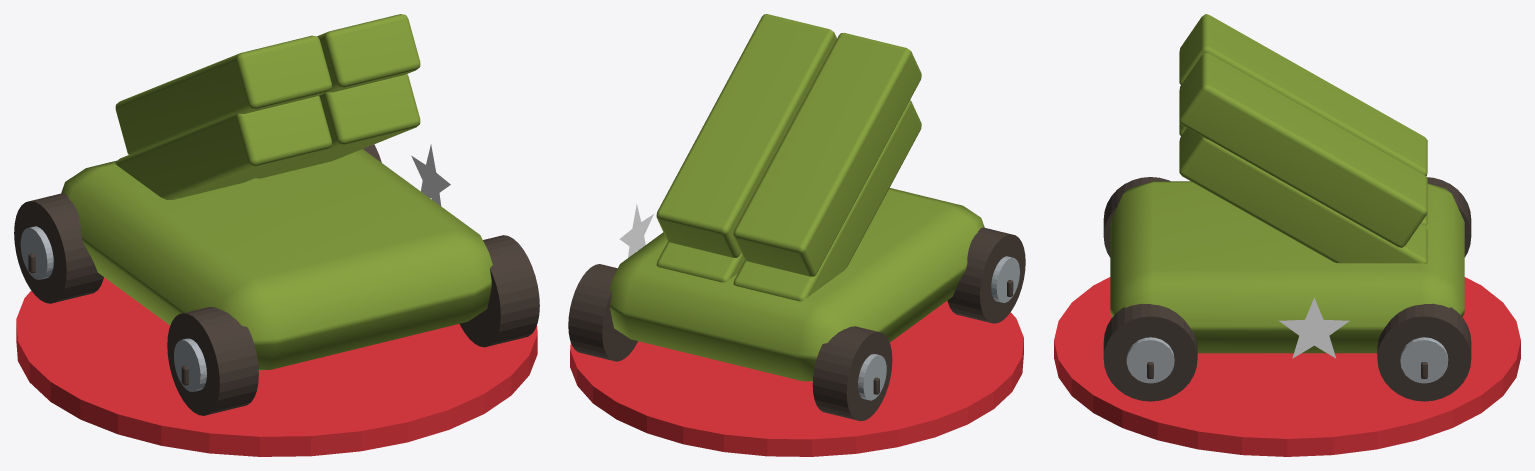
Rendered from usa_missile_lod0.glb.
3 renders of one model, left to right at view 1: azimuth 30°, elevation 25°; view 2: azimuth 150°, elevation 25°; view 3: azimuth 270°, elevation 25°, orthographic. The views are drawn at different scales.
Visible parts, largest first — view 1: body_hull, base_pedestal; view 2: body_hull, base_pedestal; view 3: body_hull, base_pedestal.
Boxes of the visible parts, <box> form: body_hull: <box>14,14,539,415</box>; base_pedestal: <box>16,277,537,456</box>; body_hull: <box>568,14,1025,421</box>; base_pedestal: <box>570,300,1023,456</box>; body_hull: <box>1103,14,1471,401</box>; base_pedestal: <box>1054,277,1520,456</box>.
Size of the model in its own units: 0.78 by 0.5694 by 0.78.
